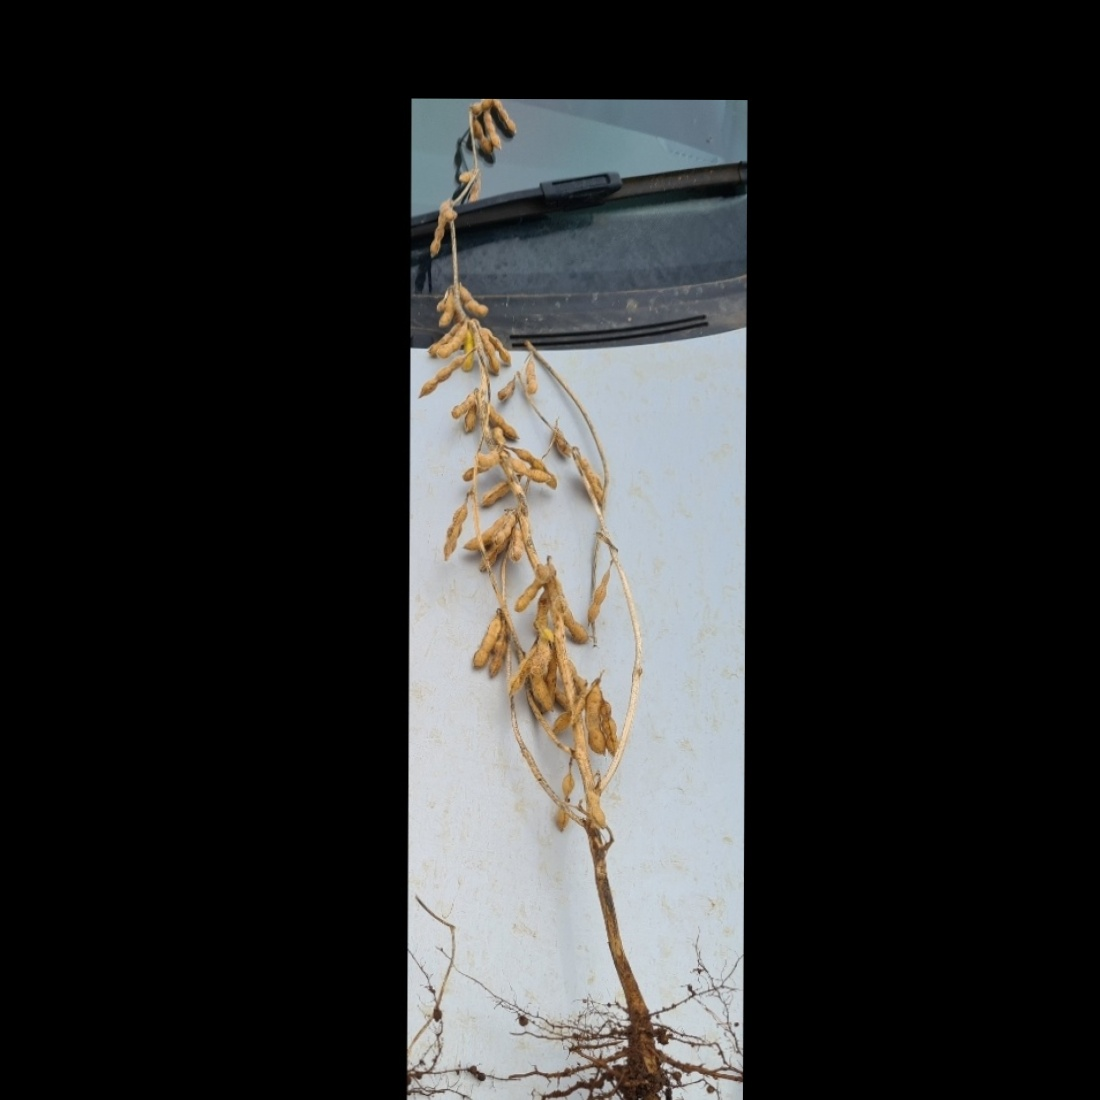pod: (581, 560, 621, 628), (438, 497, 472, 569), (416, 353, 466, 400), (582, 678, 612, 757), (467, 615, 503, 674), (511, 569, 549, 616), (593, 695, 623, 757), (431, 321, 470, 360), (487, 93, 519, 138), (507, 457, 560, 482), (426, 211, 451, 261), (469, 120, 495, 162), (483, 108, 503, 153)
soy: (418, 81, 724, 1100)
